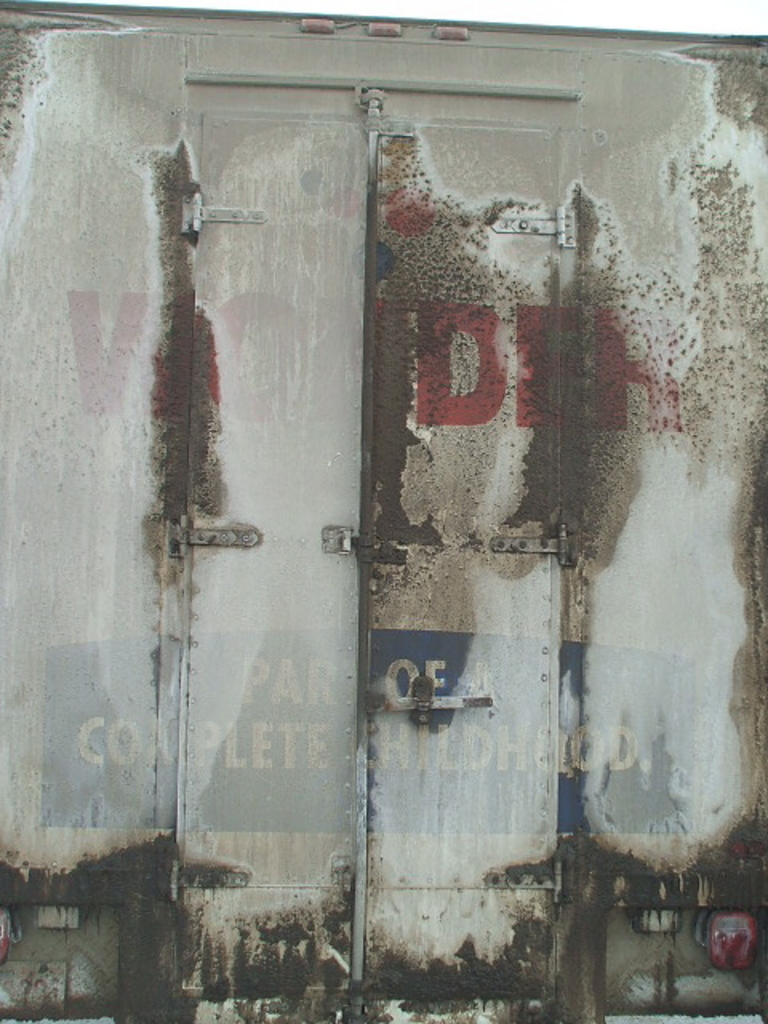door: (199, 119, 353, 966), (385, 141, 536, 983)
